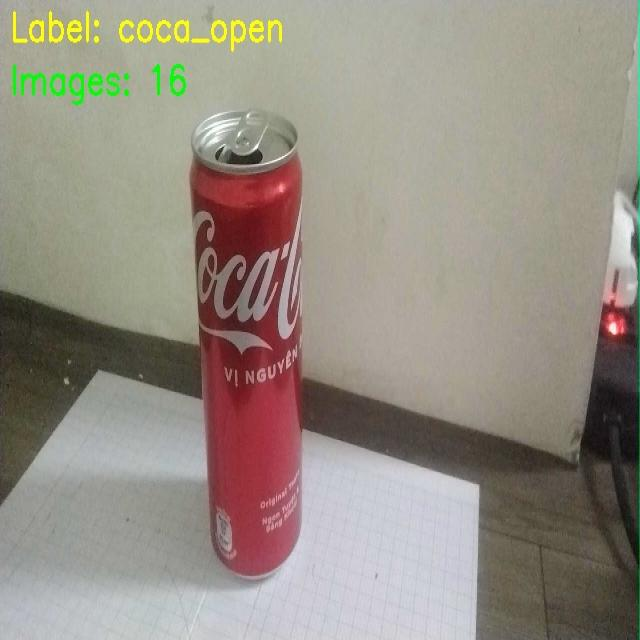Coca_open: (190, 94, 336, 574)
